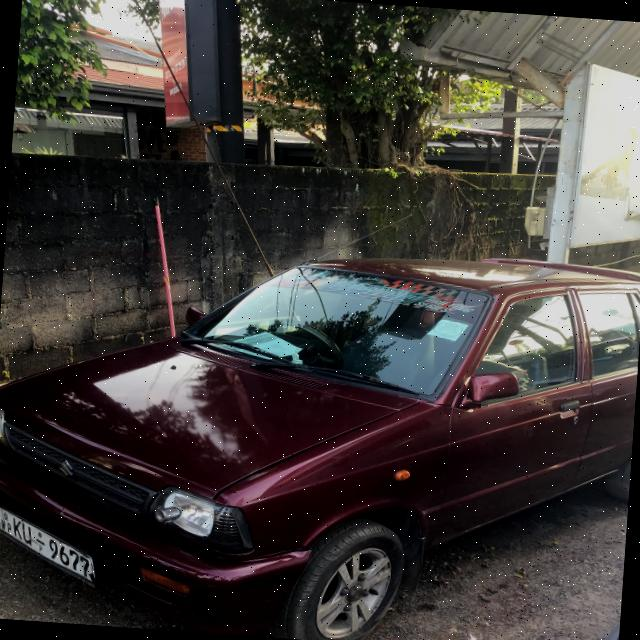car: (0, 219, 640, 640)
